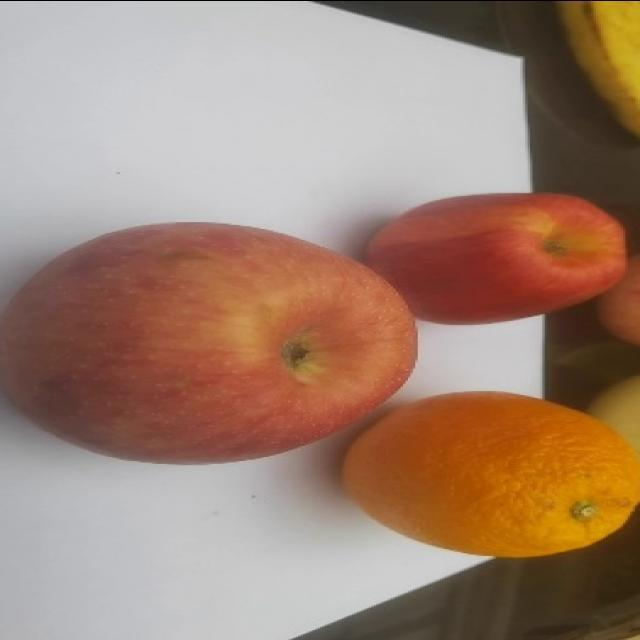Apple: (0, 218, 419, 464), (367, 189, 630, 333)
Orange: (340, 393, 640, 558)
